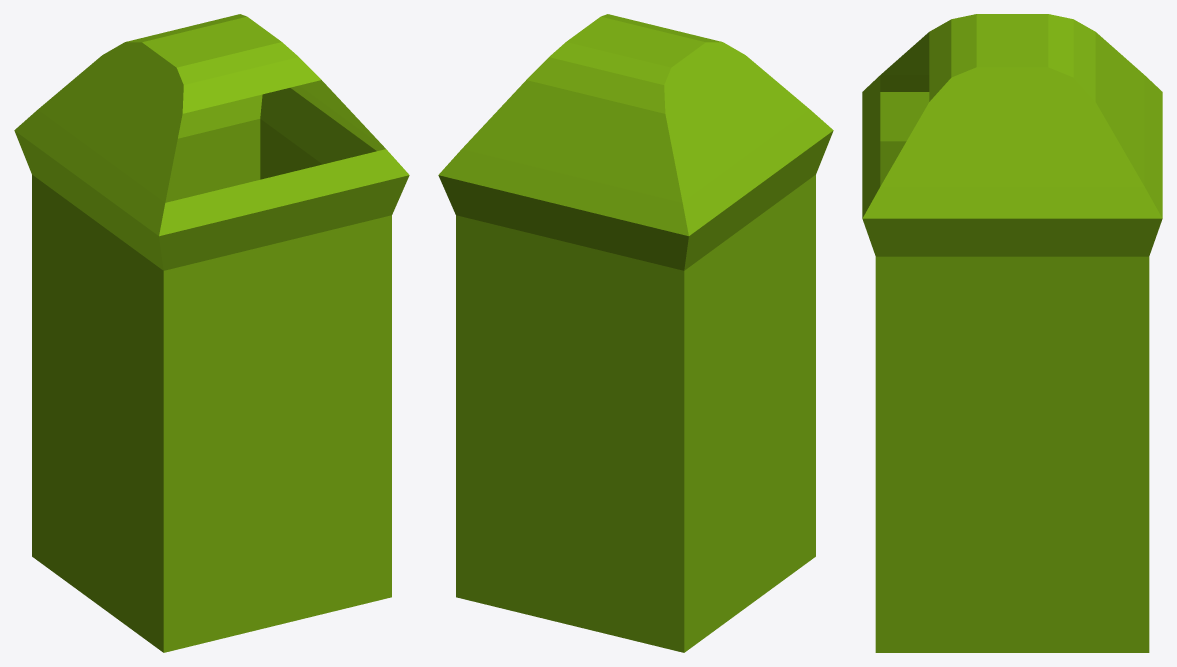
File: Tachodebasura.fbx
3 renders of one model, left to right at view 1: azimuth 30°, elevation 25°; view 2: azimuth 150°, elevation 25°; view 3: azimuth 270°, elevation 25°, orthographic. The views are drawn at different scales.
Visible parts, largest first — view 1: Cube; view 2: Cube; view 3: Cube.
Boxes of the visible parts, x1=… form: Cube: x1=14, y1=14, x2=409, y2=652; Cube: x1=438, y1=14, x2=833, y2=652; Cube: x1=862, y1=14, x2=1162, y2=652.
Bounding box in the file's own units: 220 × 447 × 220.
